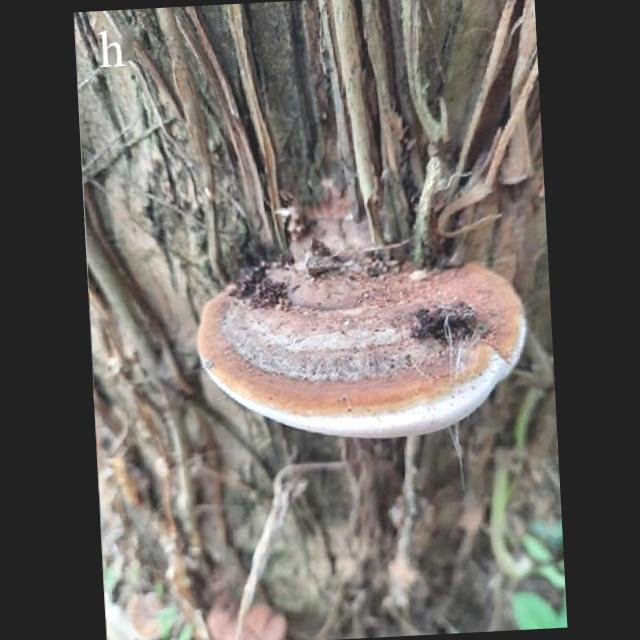ganoderma: (191, 240, 534, 452)
